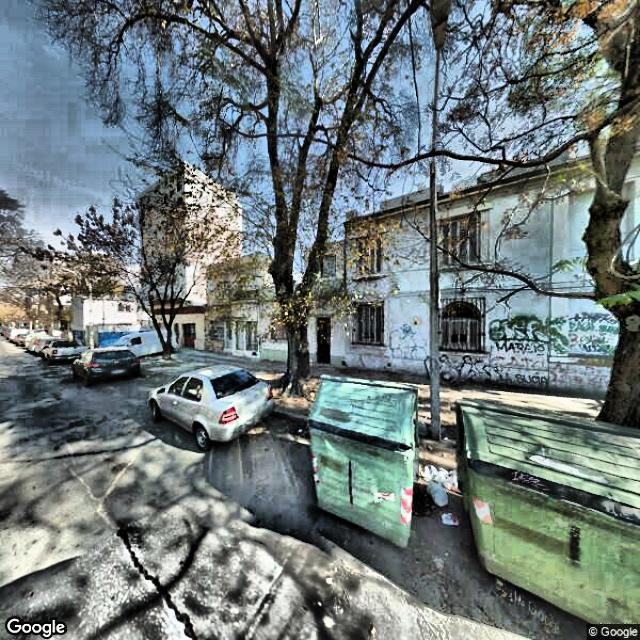garbage: (406, 441, 472, 546)
